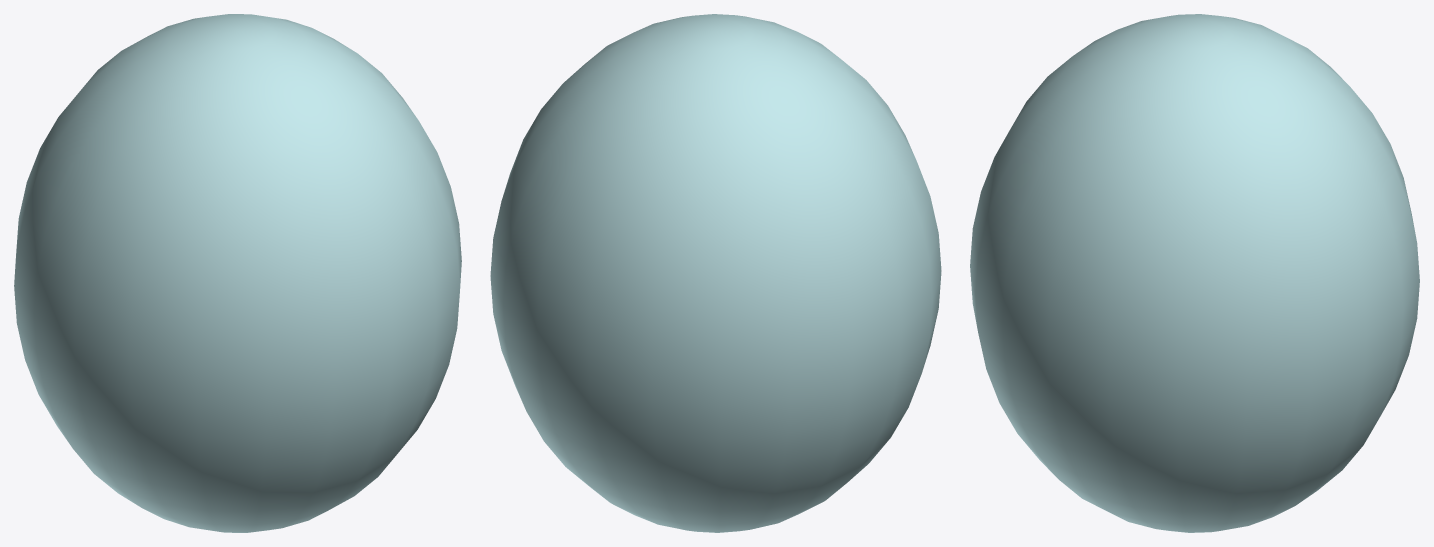
Rendered from MainLantern.fbx.
The picture shows the model from 3 angles, left to right: view 1: azimuth 30°, elevation 25°; view 2: azimuth 150°, elevation 25°; view 3: azimuth 270°, elevation 25°; orthographic projection.
Parts seen in each view (by area): view 1: polySurface445; view 2: polySurface445; view 3: polySurface445.
Part boxes in pixels (box(x1,y1,x2,y2)): polySurface445: box(14, 14, 461, 532); polySurface445: box(490, 14, 941, 532); polySurface445: box(970, 14, 1419, 532).
Bounding box in the file's own units: 6.05 × 7.18 × 6.05.
